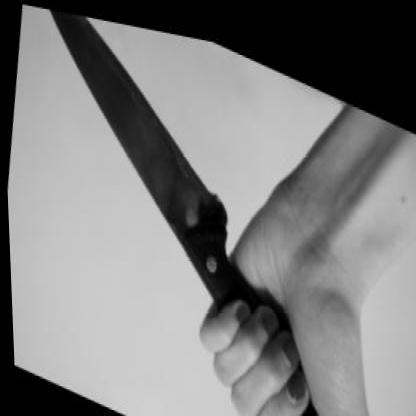knife: (0, 0, 336, 412)
